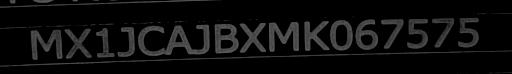letter: (266, 19, 302, 53), (28, 26, 64, 59), (62, 26, 94, 60), (137, 22, 167, 57), (428, 15, 458, 48), (303, 18, 331, 52), (238, 20, 266, 54), (380, 16, 406, 50), (212, 21, 238, 55), (354, 17, 380, 50), (165, 24, 191, 57), (458, 14, 482, 47), (330, 19, 354, 51), (93, 26, 117, 58), (190, 22, 212, 56), (115, 25, 137, 59), (405, 17, 429, 48)
